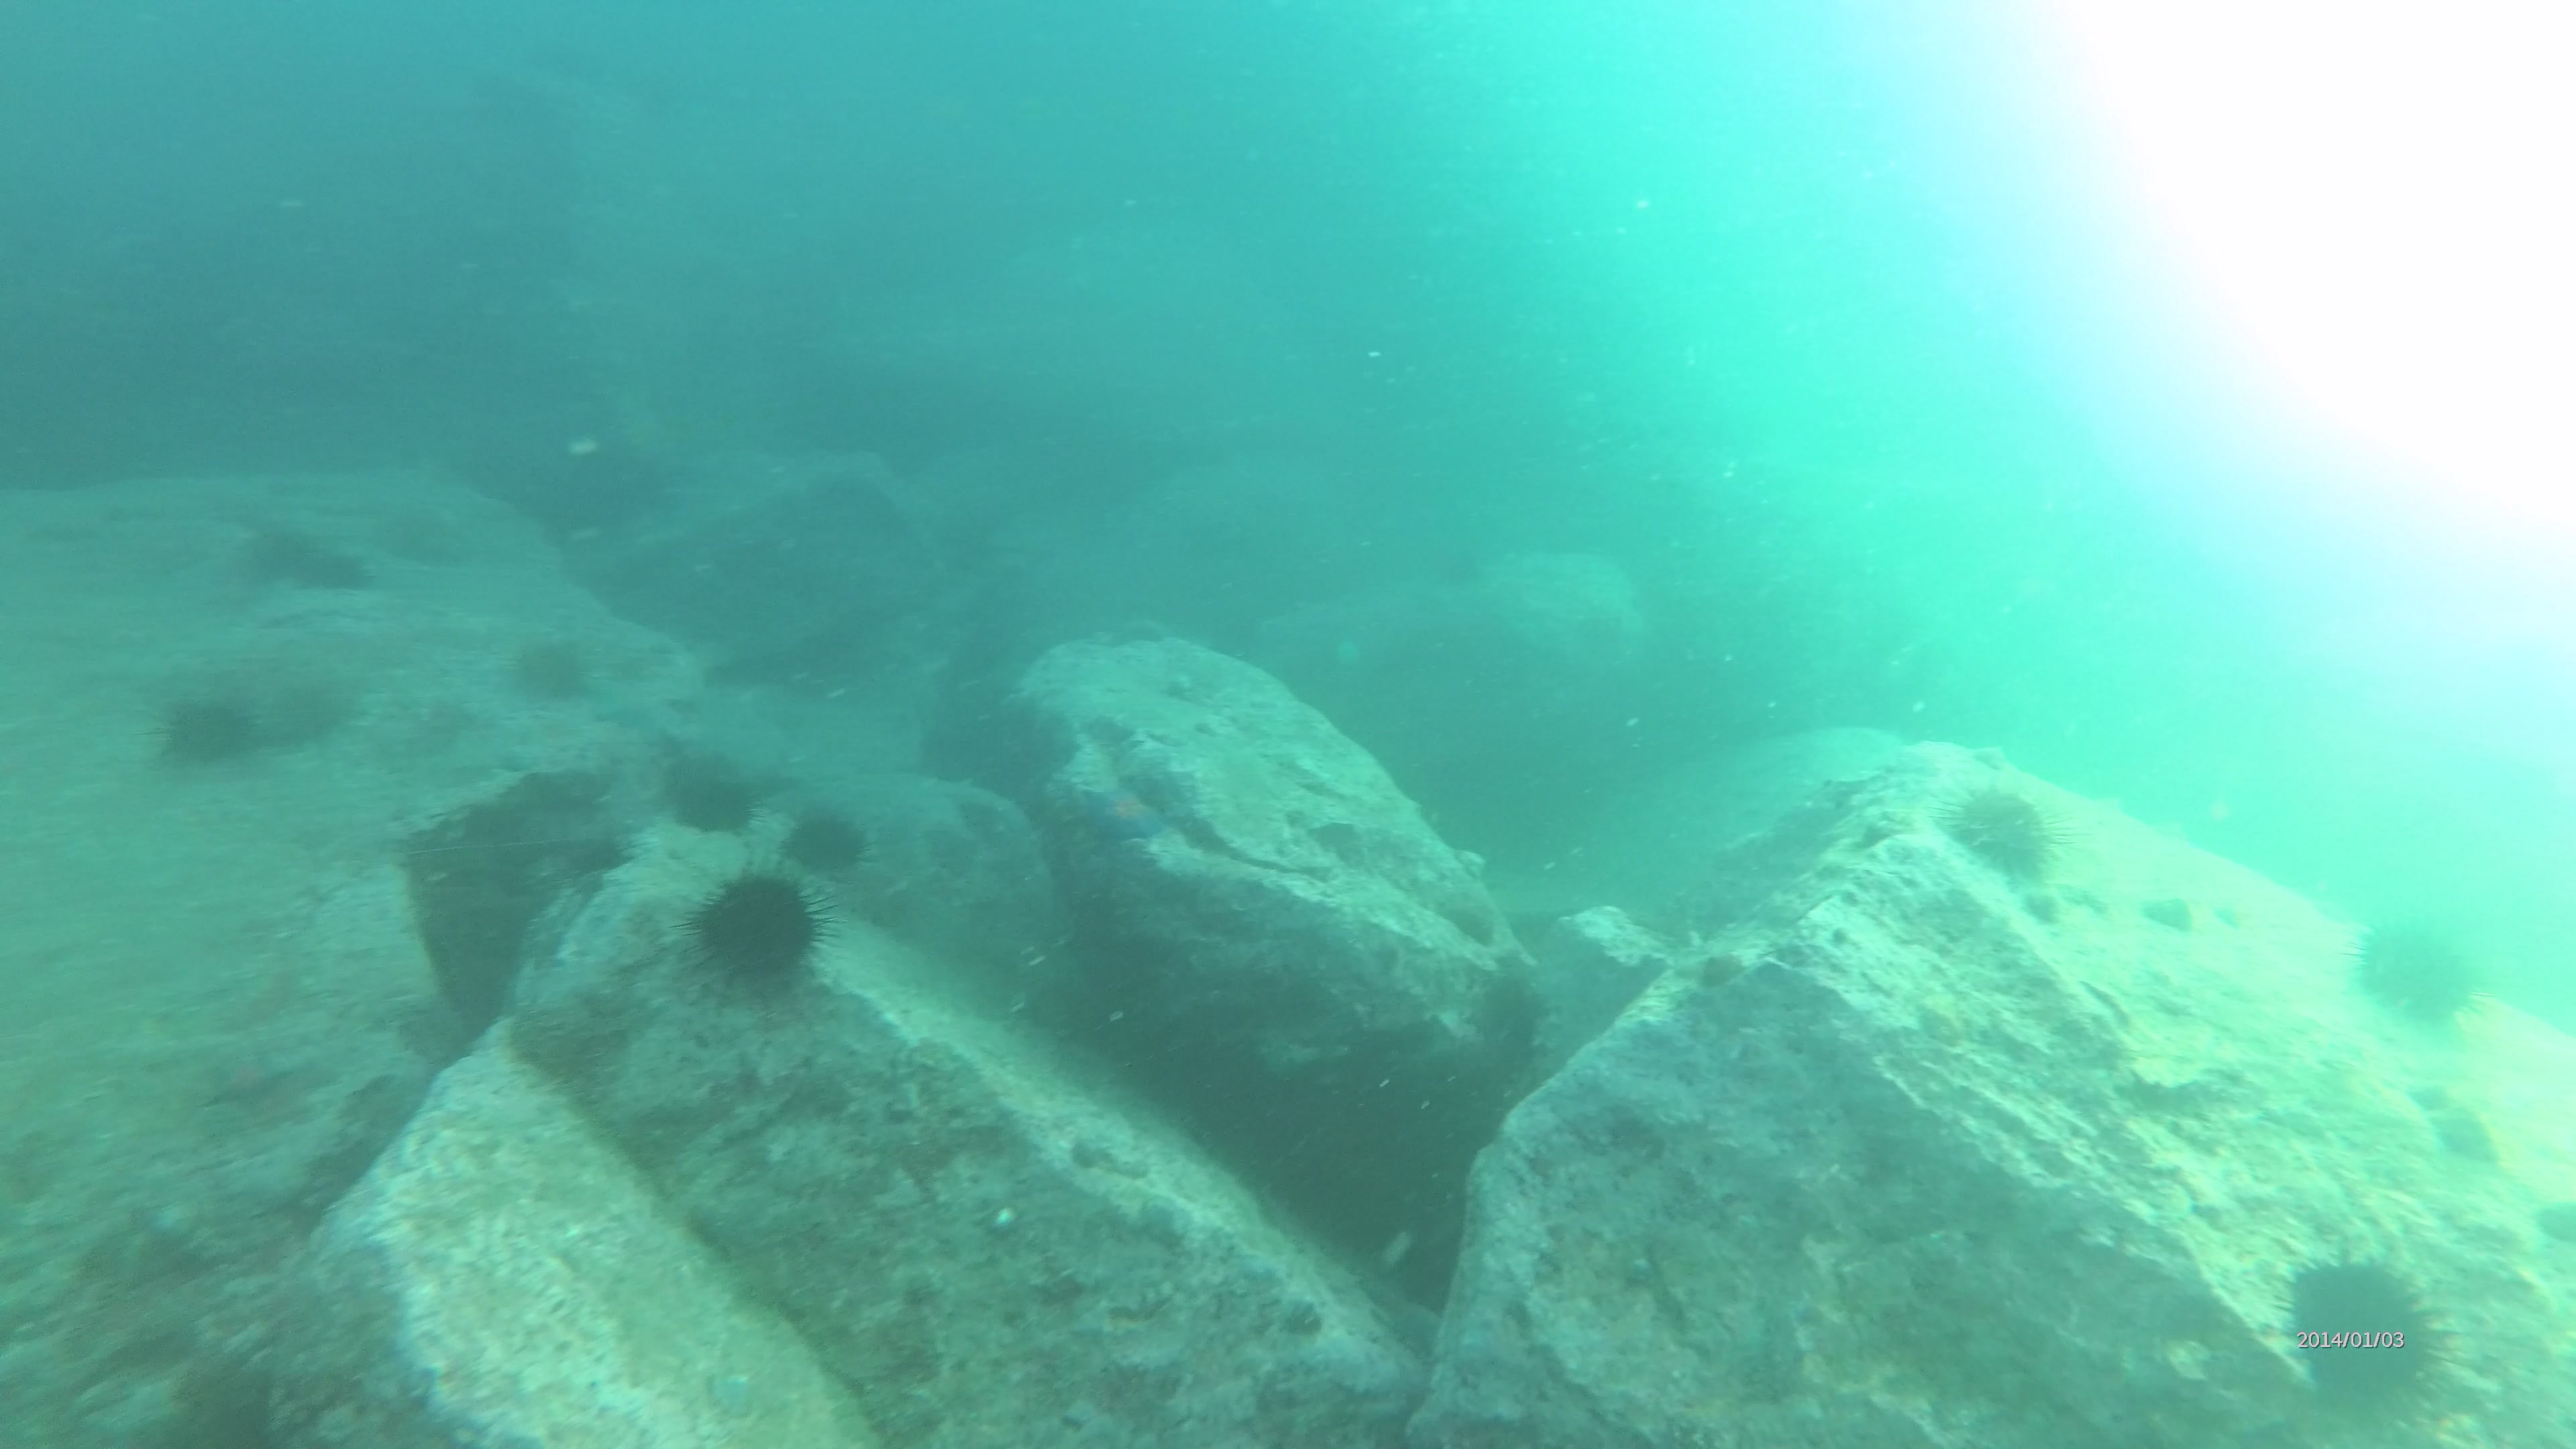echinus: (2263, 1235, 2484, 1426), (2348, 888, 2495, 1046), (679, 860, 835, 1007), (1939, 766, 2079, 892), (134, 688, 272, 782), (777, 807, 874, 885), (674, 766, 757, 837)
starfish: (1069, 777, 1169, 846)
